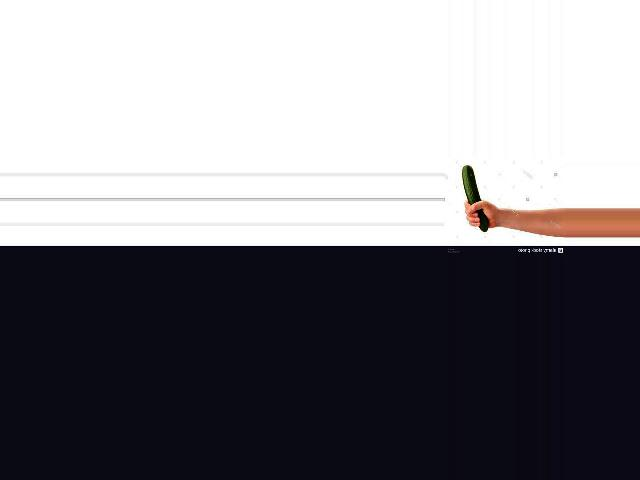cucumber: (461, 165, 487, 232)
